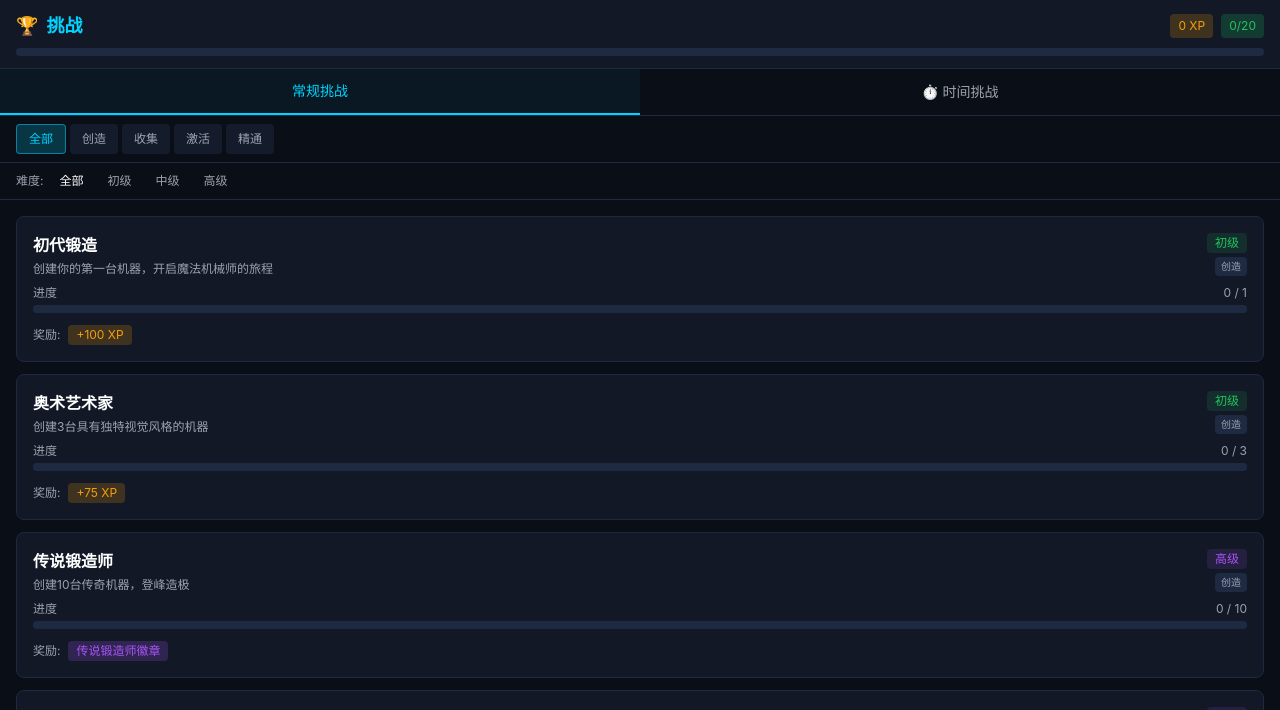
Scenario: ChallengePanel Time Trial Tab (AC-138-003) › should switch to Time Trial tab when clicked (AC-138-003)
Check: the button "常规挑战" is shown, box [0,69,640,115]
# Click on Time Trial tab
Click the button "⏱️ 时间挑战".
click(960, 92)  # box [640,69,1279,115]
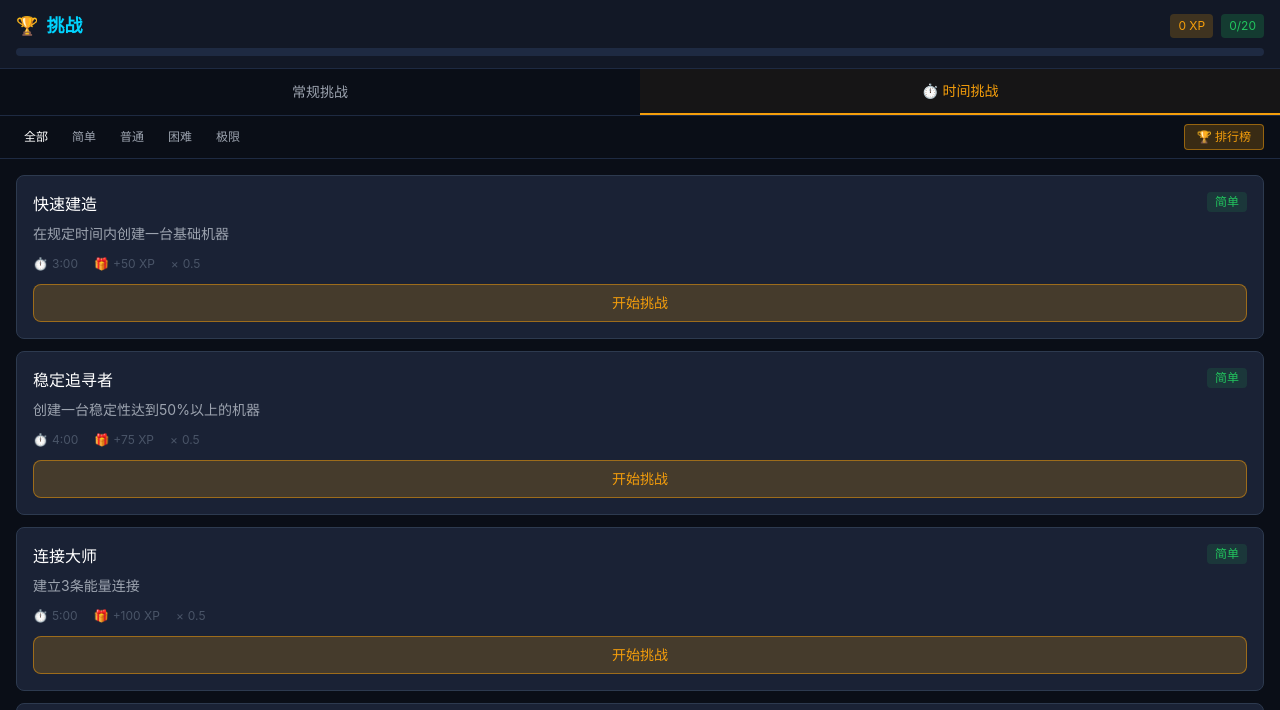
Check: the button "开始挑战" below "3:00" is shown, box [33,284,1247,322]
